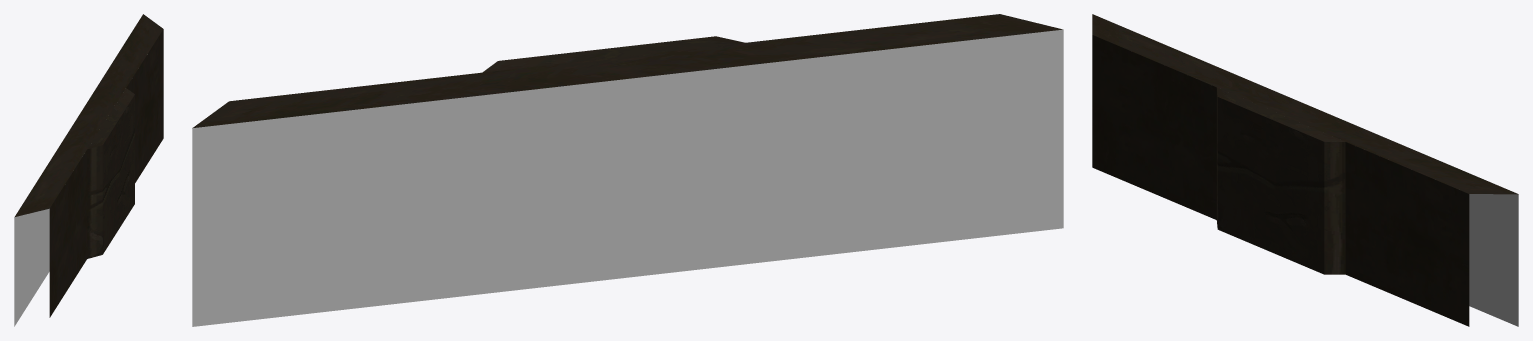
Rendered from fortress_quarter_diagonal_02.fbx.
The picture shows the model from 3 angles, left to right: view 1: azimuth 30°, elevation 25°; view 2: azimuth 150°, elevation 25°; view 3: azimuth 270°, elevation 25°; orthographic projection. The views are drawn at different scales.
Visible parts, largest first — view 1: fortress_quarter_diagonal_02-0; view 2: fortress_quarter_diagonal_02-0; view 3: fortress_quarter_diagonal_02-0.
Boxes of the visible parts, x1=… form: fortress_quarter_diagonal_02-0: x1=14, y1=14, x2=163, y2=326; fortress_quarter_diagonal_02-0: x1=192, y1=14, x2=1063, y2=326; fortress_quarter_diagonal_02-0: x1=1092, y1=14, x2=1518, y2=326.
Bounding box in the file's own units: 4 × 1.38 × 4.
